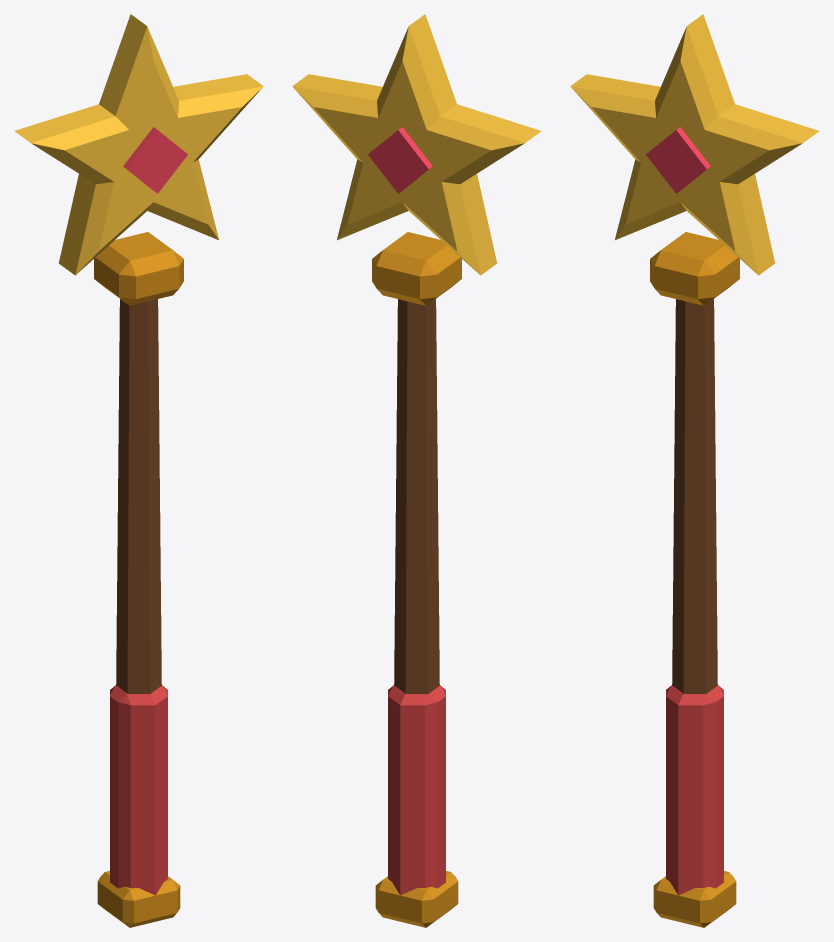
Rendered from GoldWand.fbx.
3 renders of one model, left to right at view 1: azimuth 30°, elevation 25°; view 2: azimuth 150°, elevation 25°; view 3: azimuth 330°, elevation 25°, orthographic.
Parts seen in each view (by area): view 1: GoldWand; view 2: GoldWand; view 3: GoldWand.
Boxes of the visible parts, left/top/right/bottom form: GoldWand: left=14, top=14, right=263, bottom=927; GoldWand: left=292, top=14, right=541, bottom=927; GoldWand: left=570, top=14, right=819, bottom=927.
Bounding box in the file's own units: 0.6467 × 2.37 × 0.18.
1 material, 1 textured.
